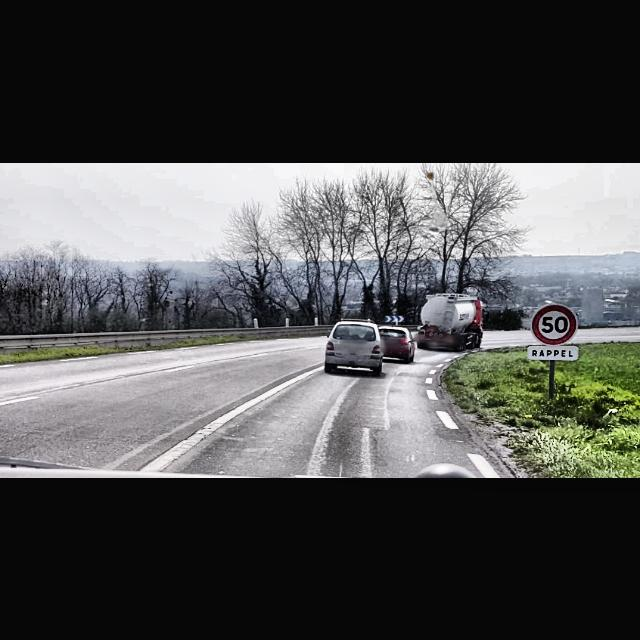speed_50: (530, 302, 578, 346)
